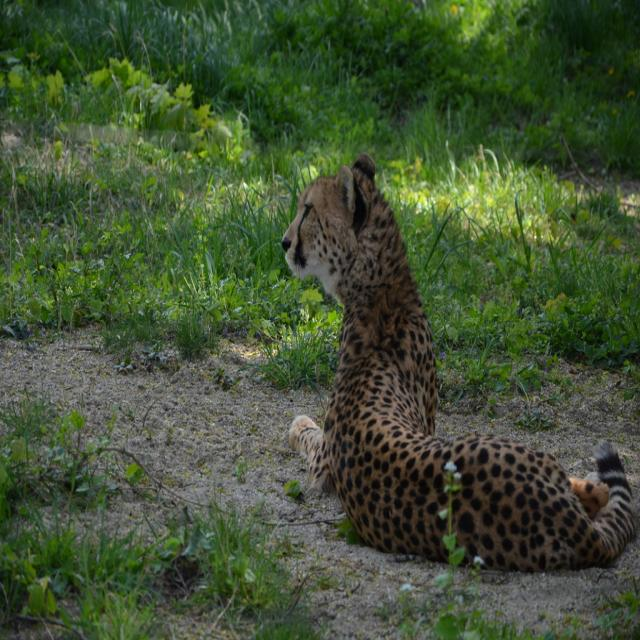Cheetah: (280, 148, 634, 577)
